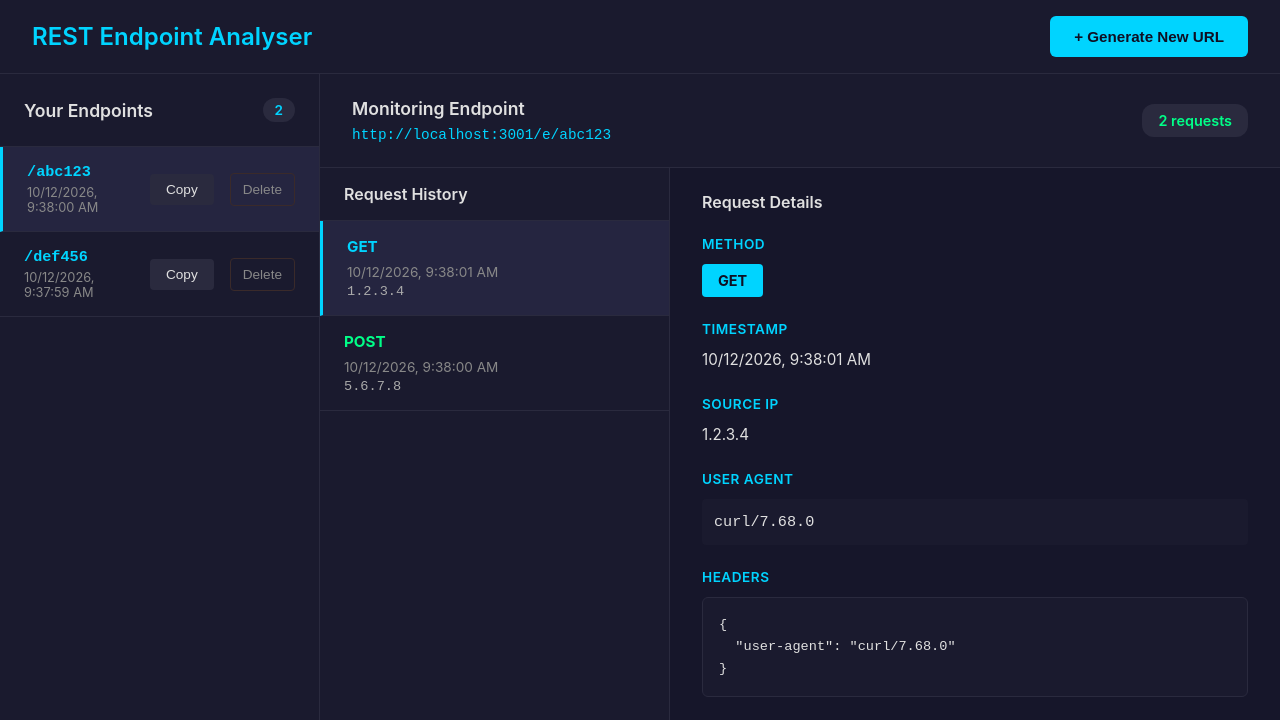
Test: App — real-time WebSocket updates › handleDeleteEndpoint › should show "No Endpoint Selected" when the selected endpoint is deleted via button
Expected: the text "No Endpoint Selected" is not shown
Click the 1st button "Delete": (262, 189) [230,172,295,206]
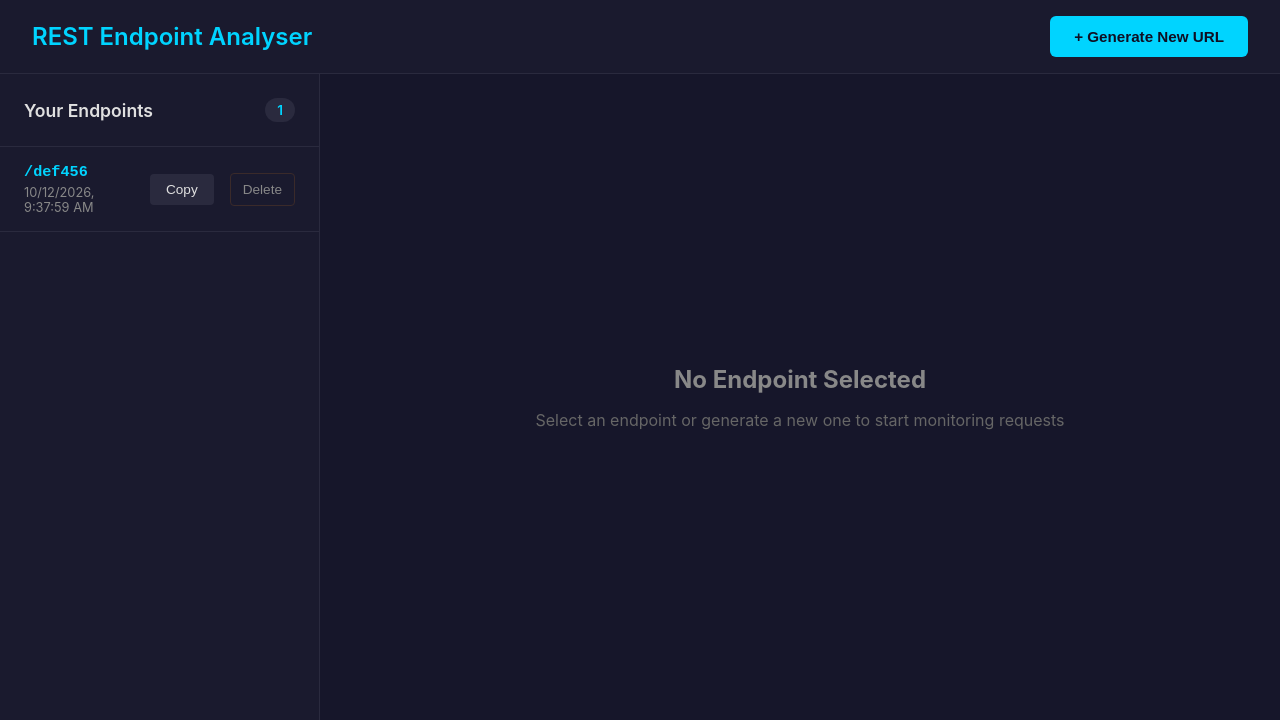
Expected: the heading "No Endpoint Selected" is shown, [674,364,926,394]
